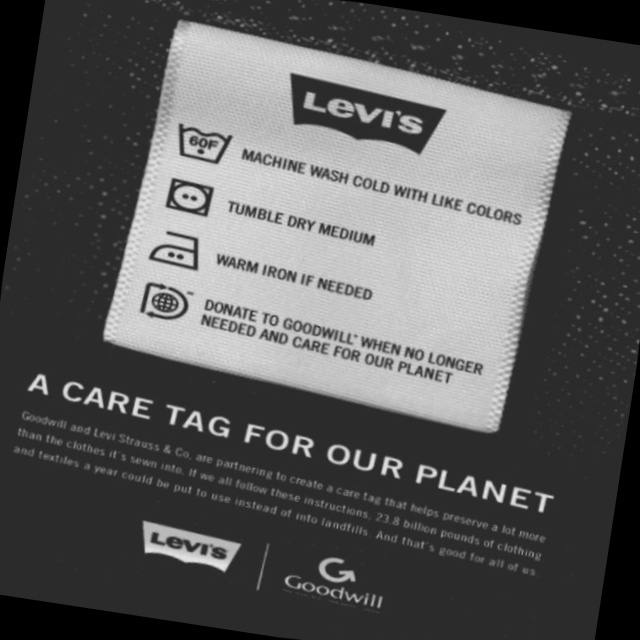30C: (164, 107, 244, 178)
iron_medium: (140, 216, 216, 284)
tumble_dry_medium: (154, 168, 225, 229)
